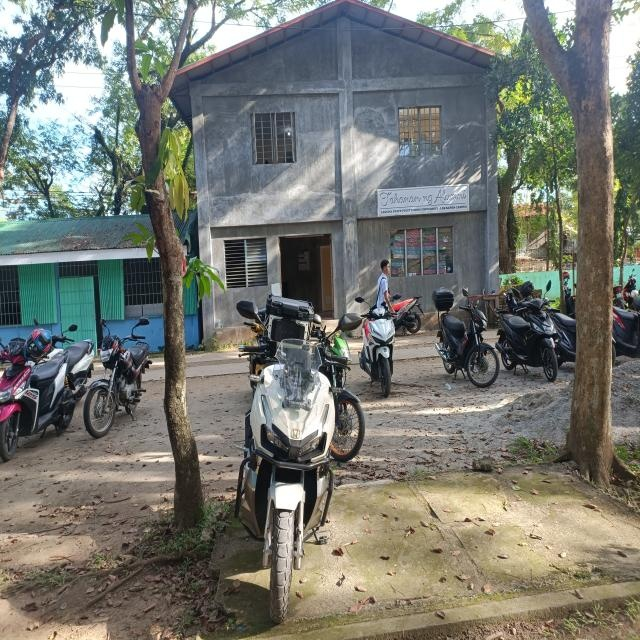Motorcycle: (228, 297, 369, 622), (0, 334, 80, 466), (81, 312, 158, 441), (494, 277, 566, 387), (434, 282, 502, 392), (356, 290, 406, 399)
